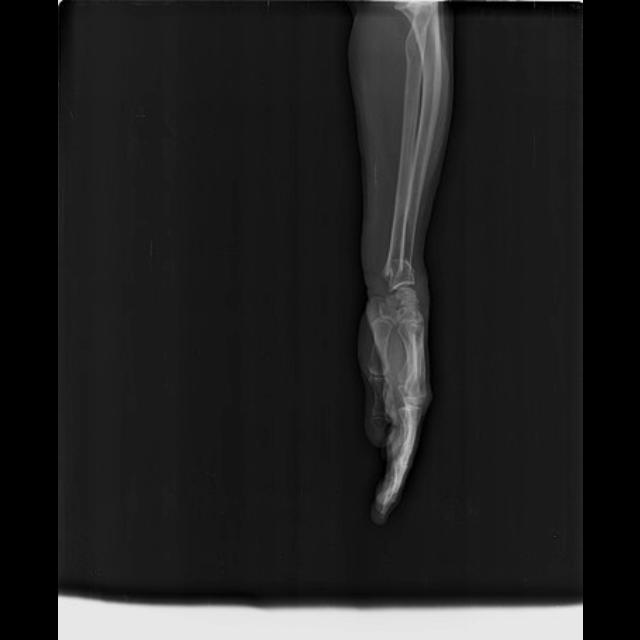Fracture: (385, 250, 418, 295)
